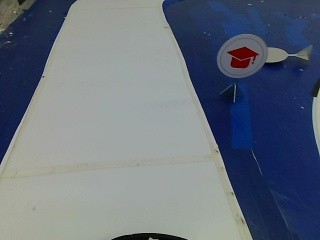school: (217, 32, 264, 82)
